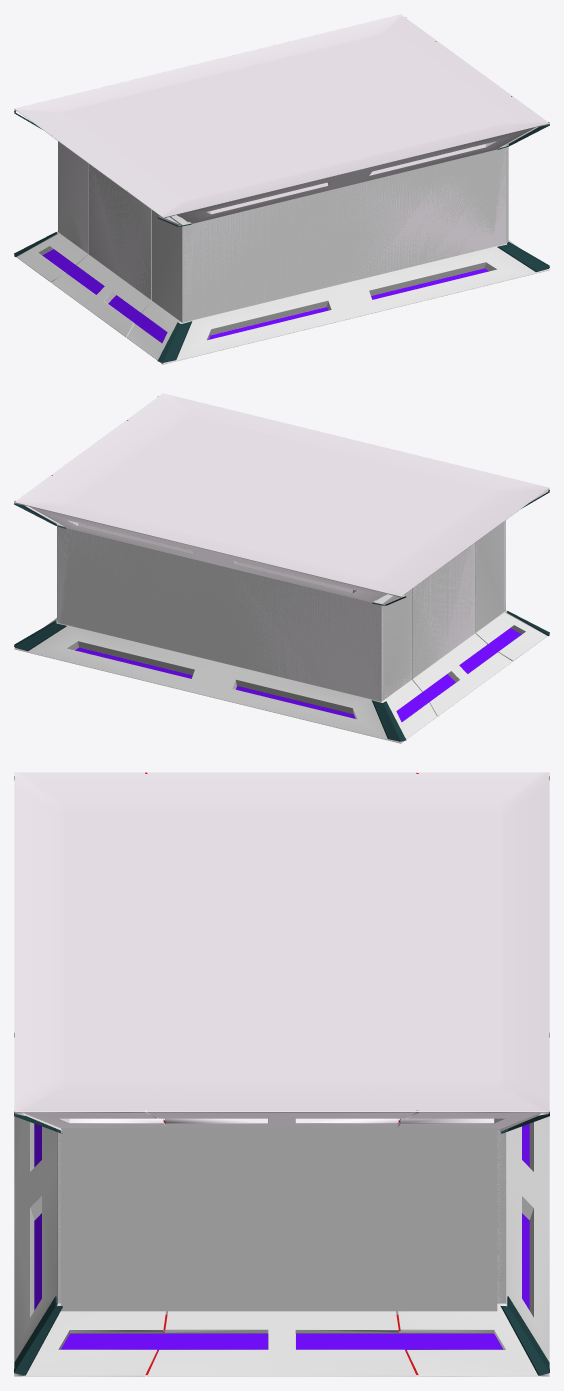
The model's file is masa6devam2.fbx.
3 views of the same model, one above another, from view 1: azimuth 30°, elevation 25°; view 2: azimuth 150°, elevation 25°; view 3: azimuth 270°, elevation 25° (orthographic). The views are drawn at different scales.
Parts seen in each view (by area): view 1: Cube.001; view 2: Cube.001; view 3: Cube.001, Cube.003.
Boxes of the visible parts, x1,y1,x2,y2 form: Cube.001: (14,14,549,364); Cube.001: (14,393,549,743); Cube.001: (14,772,549,1376); Cube.003: (61,1125,497,1314).
Bounding box in the file's own units: 2273 × 819 × 1495.
